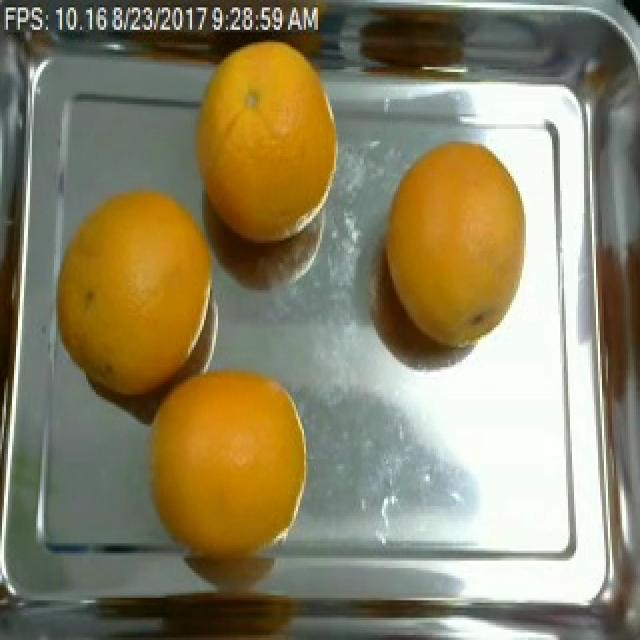Fruit: (364, 129, 538, 330), (348, 0, 482, 99)
